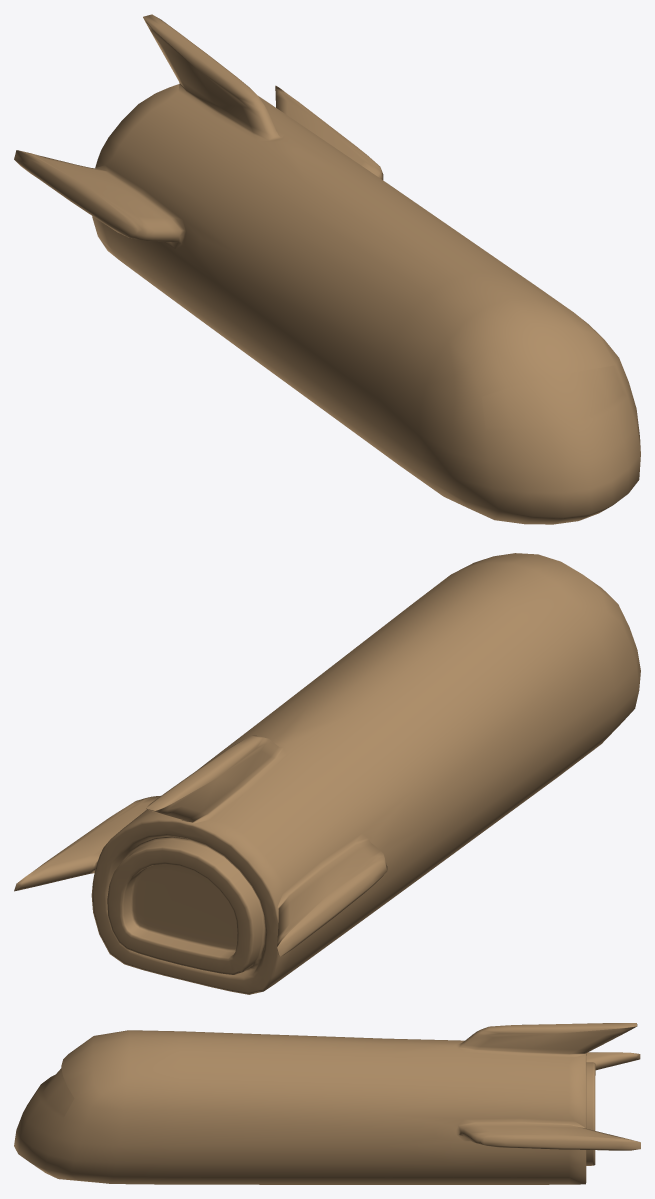
Rendered from SpaceShuttle0218.fbx.
3 views of the same model, one above another, from view 1: azimuth 30°, elevation 25°; view 2: azimuth 150°, elevation 25°; view 3: azimuth 270°, elevation 25° (orthographic). The views are drawn at different scales.
Parts seen in each view (by area): view 1: SpaceShuttle; view 2: SpaceShuttle; view 3: SpaceShuttle.
Part boxes in pixels (box(x1,y1,x2,y2)): SpaceShuttle: box(14, 14, 640, 524); SpaceShuttle: box(14, 553, 640, 994); SpaceShuttle: box(14, 1023, 640, 1184).
Size of the model in its own units: 188 by 135 by 548.
